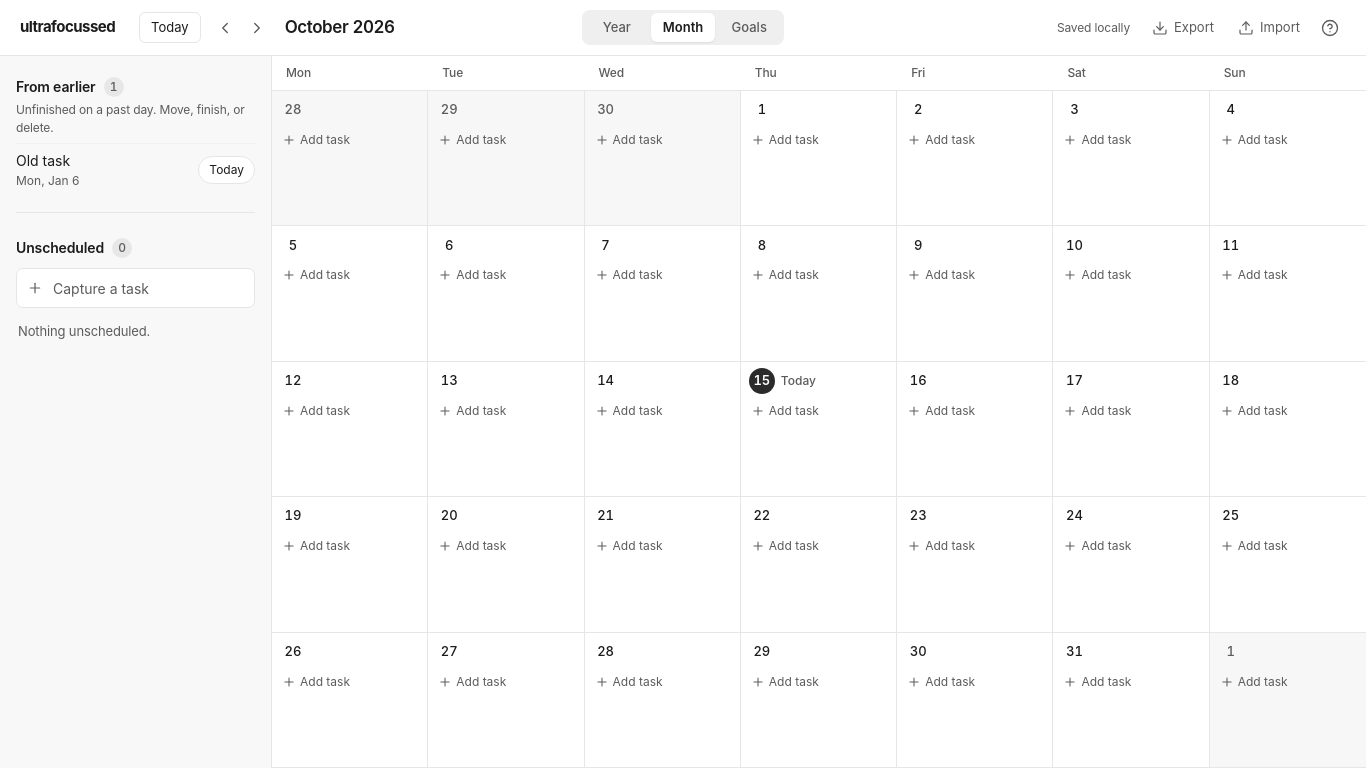
Test: planner user flows › lists unfinished earlier tasks and moves one to today
This screenshot has width=1366, height=768.
Step 1. Click the button with aria-label "Move Old task to today" → (227, 170), box [198, 156, 255, 184]
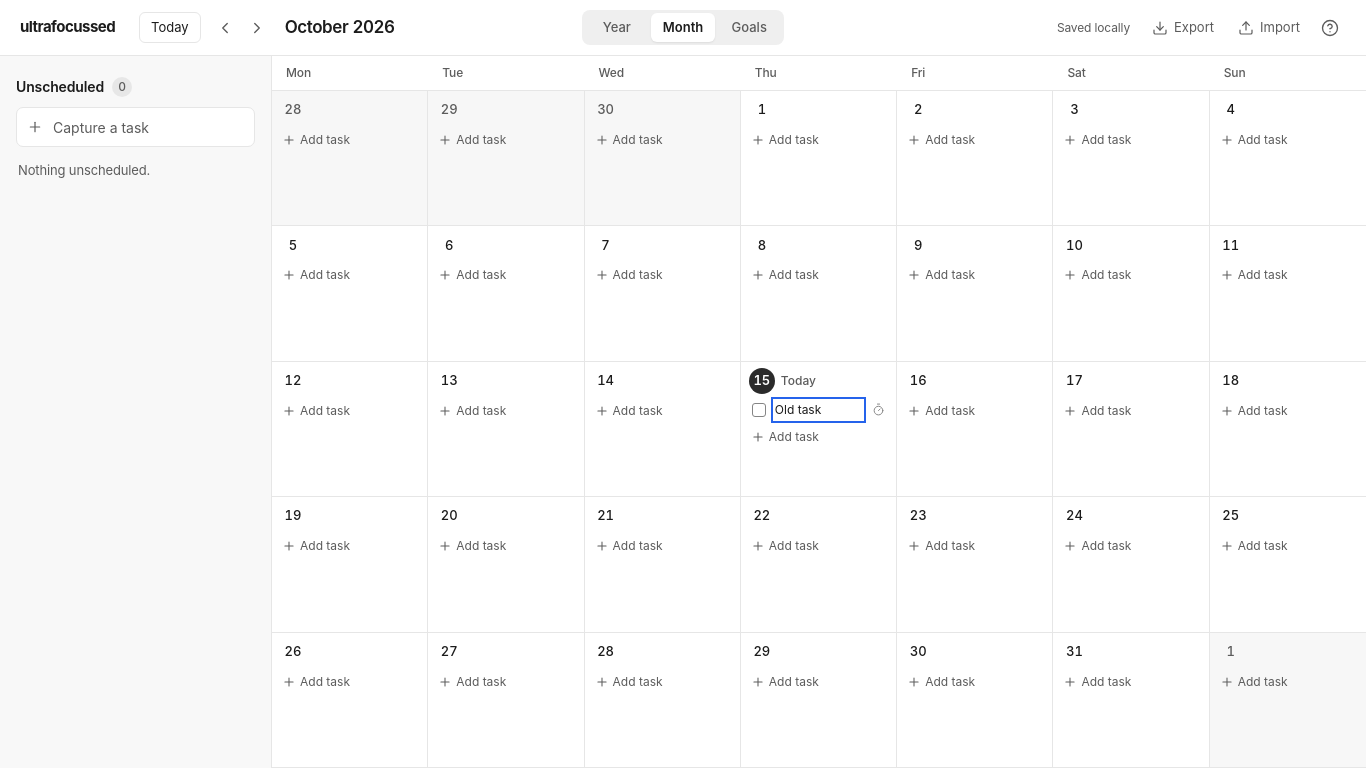
Now the heading "From earlier" is gone
